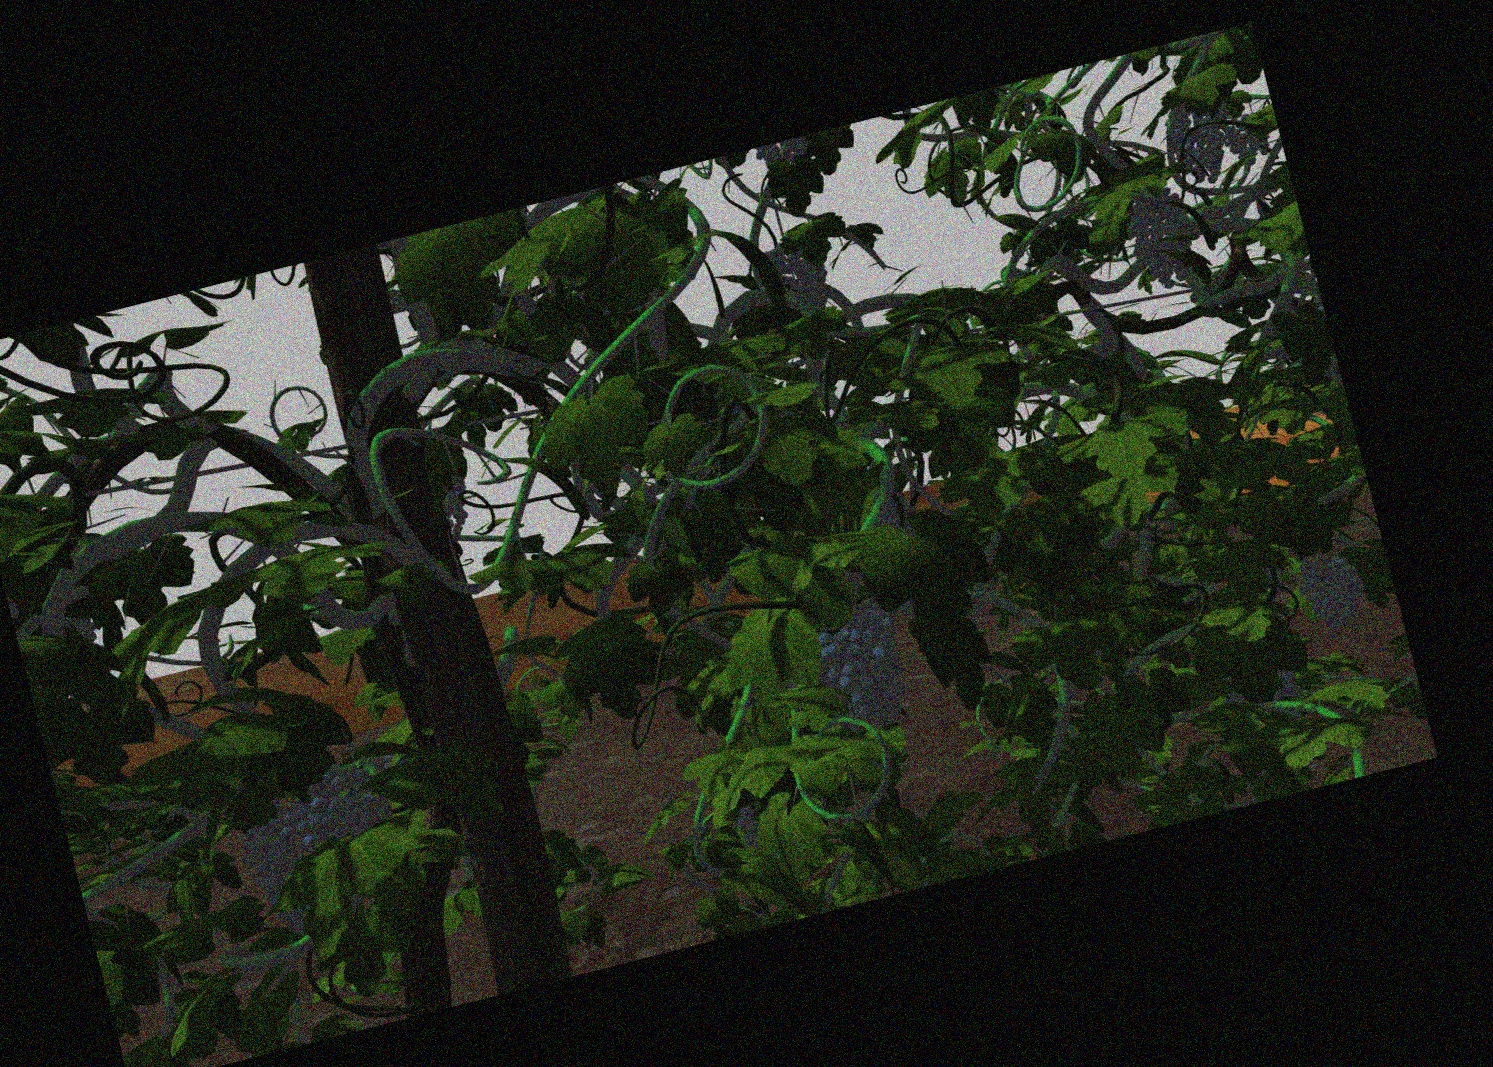grape: (826, 619, 906, 734), (248, 818, 315, 934), (306, 767, 393, 838), (1129, 192, 1194, 283), (1300, 555, 1366, 630), (1170, 99, 1224, 182), (778, 245, 828, 305), (1225, 107, 1261, 167)
